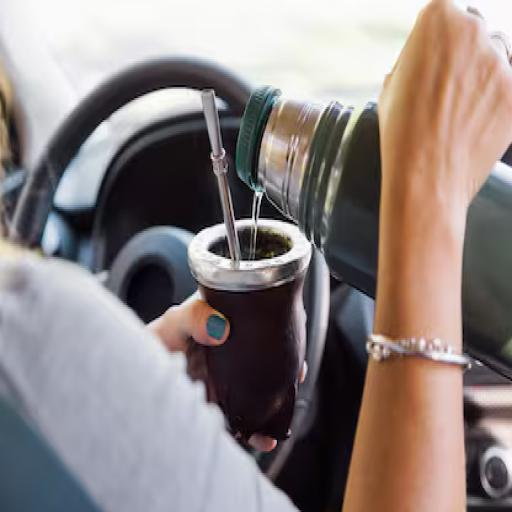mate: (181, 195, 309, 451)
termo: (236, 87, 381, 297)
